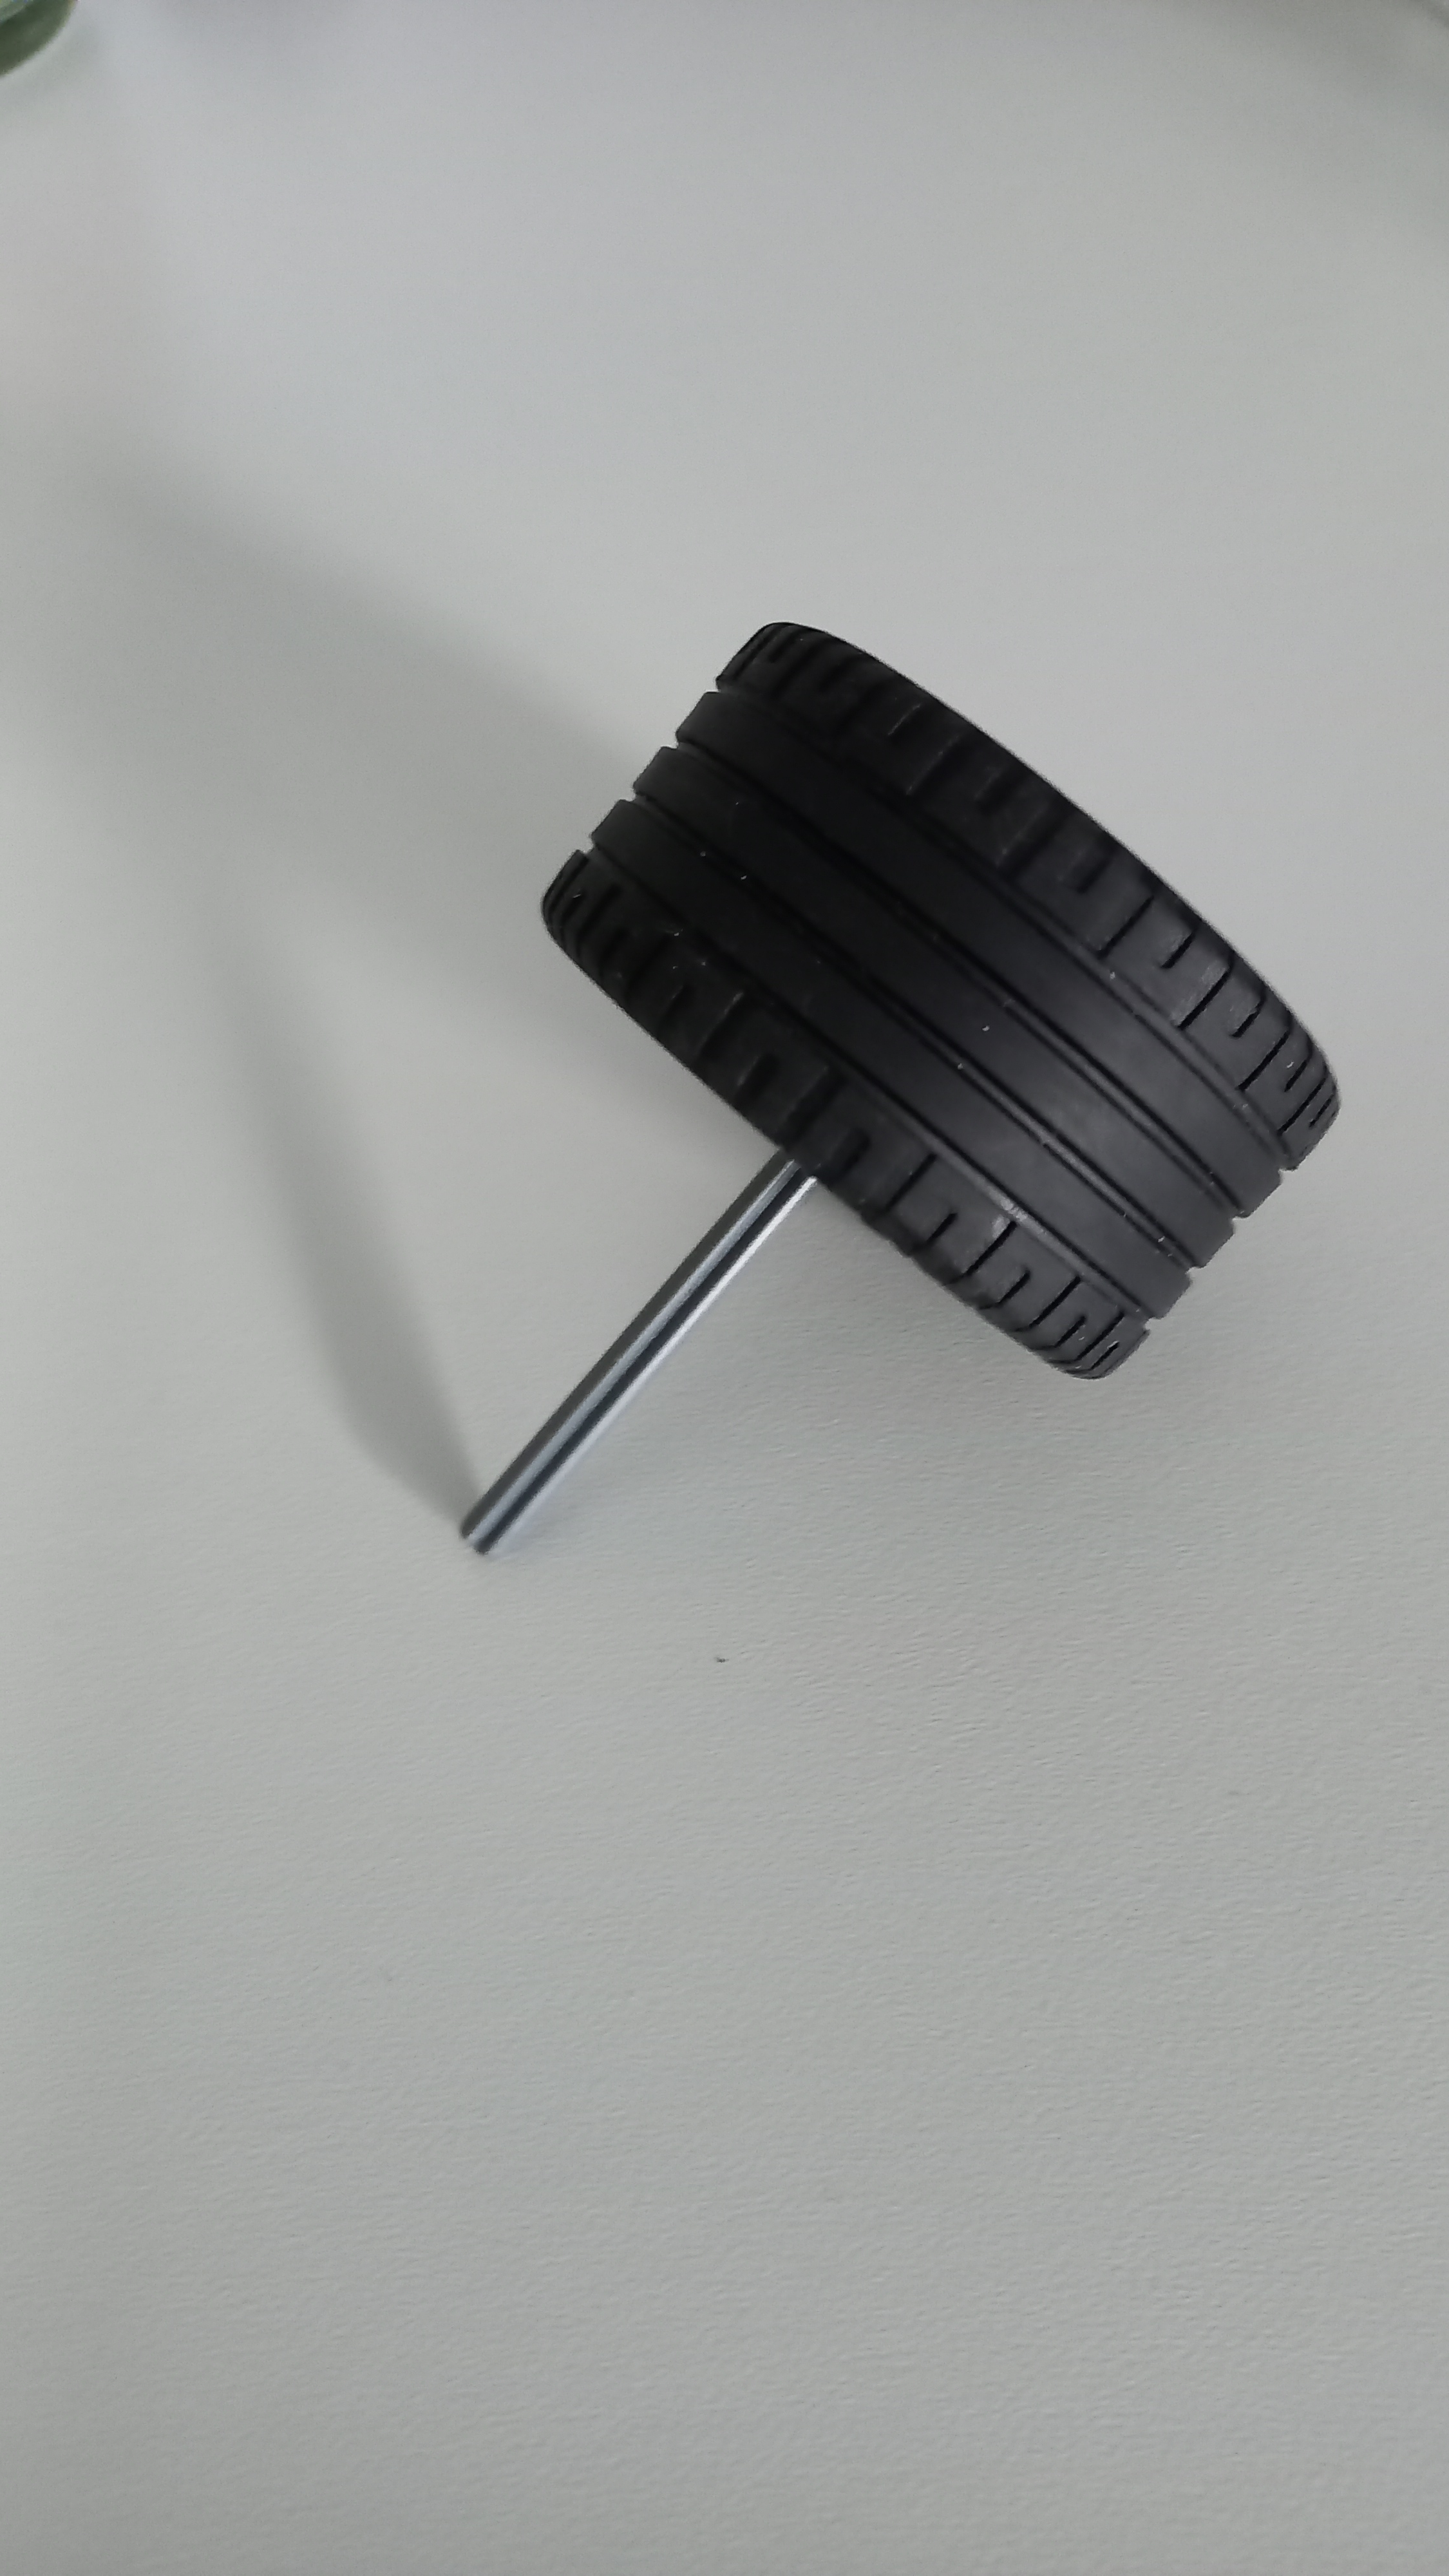Rad+Grau_lang: (428, 591, 1350, 1569)
